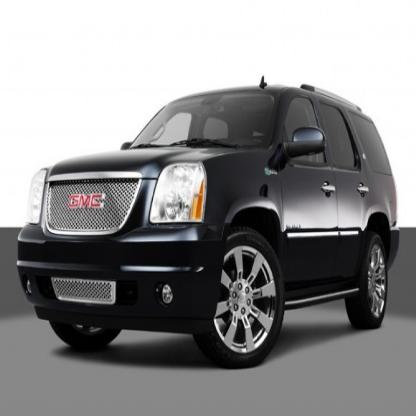Vehicle: (17, 76, 401, 372)
